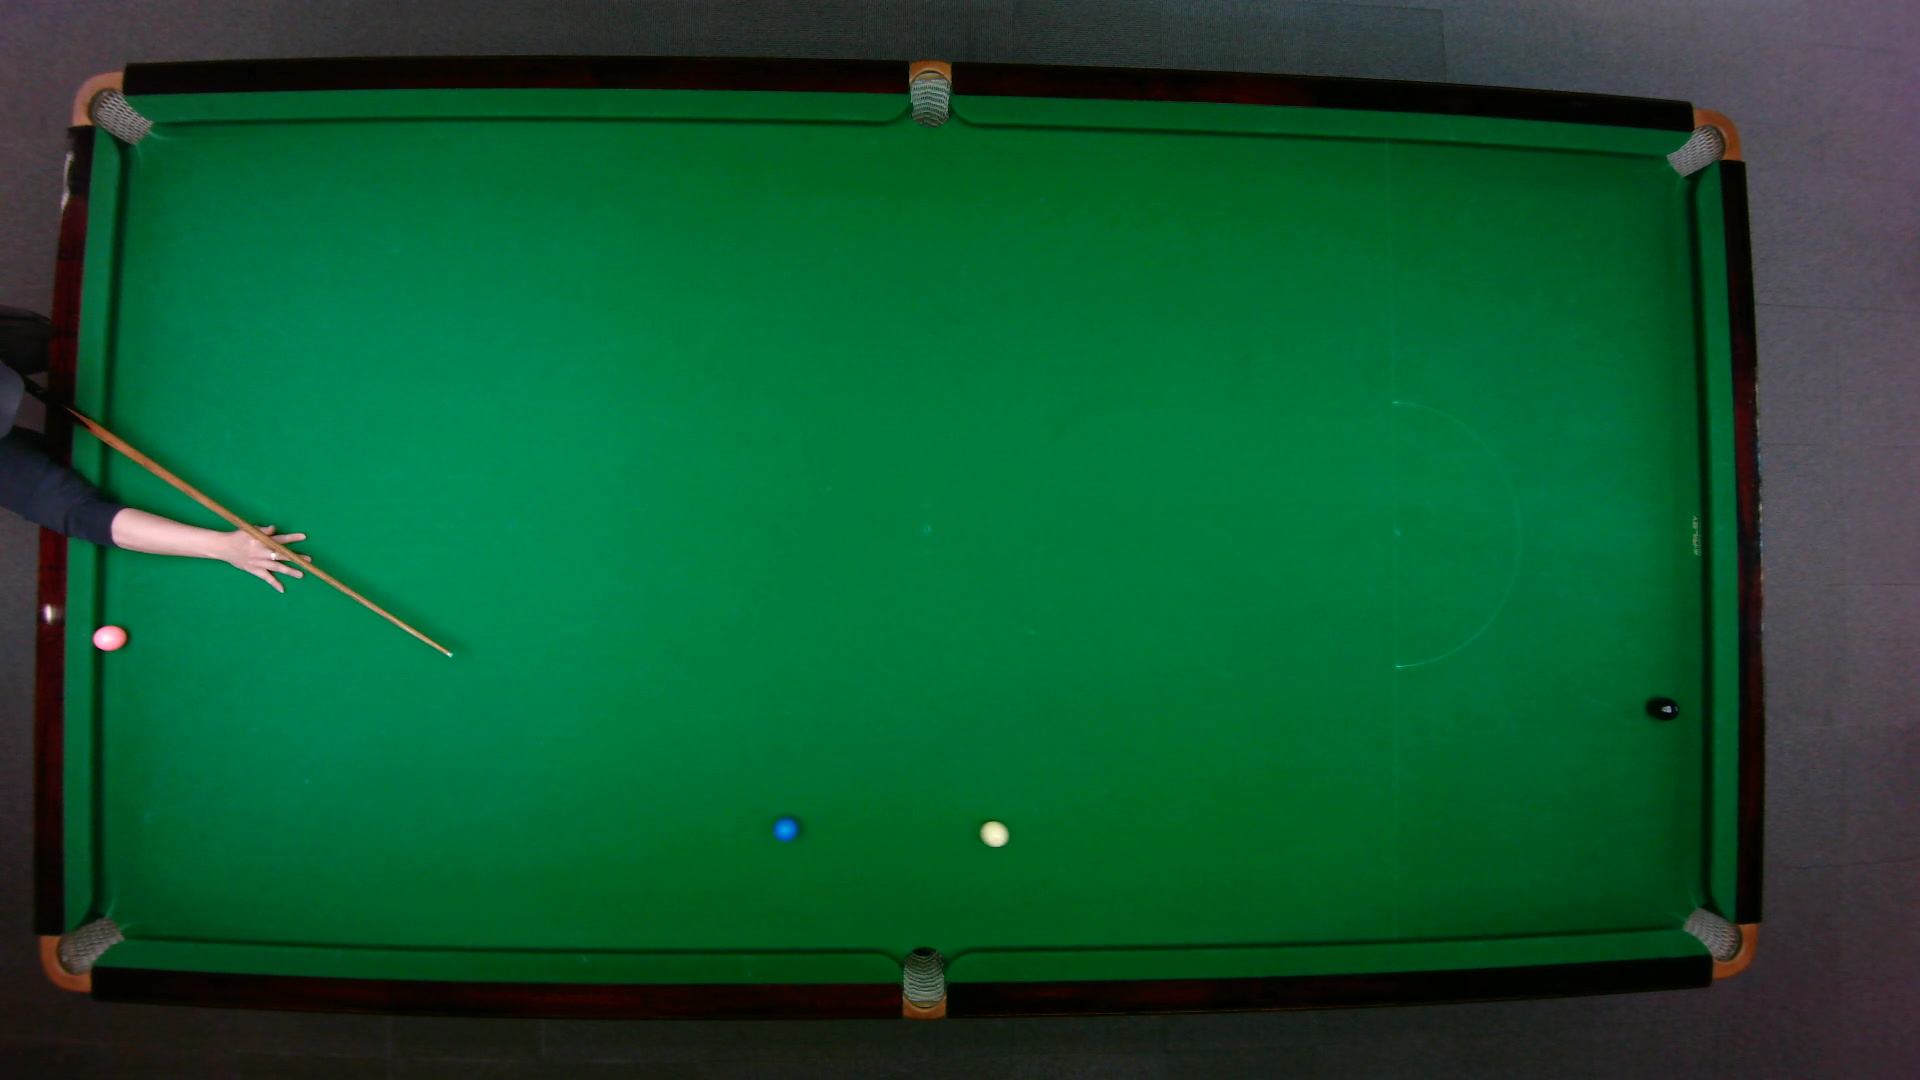bag: (38, 914, 125, 993), (69, 69, 152, 145), (1679, 905, 1756, 978), (1663, 107, 1741, 178), (901, 945, 945, 1021), (909, 57, 949, 128)
black: (1650, 695, 1679, 720)
blue: (771, 815, 799, 843)
cue: (28, 371, 455, 659)
pink: (90, 622, 127, 651)
white: (977, 818, 1010, 847)
zone: (1390, 400, 1520, 669)
